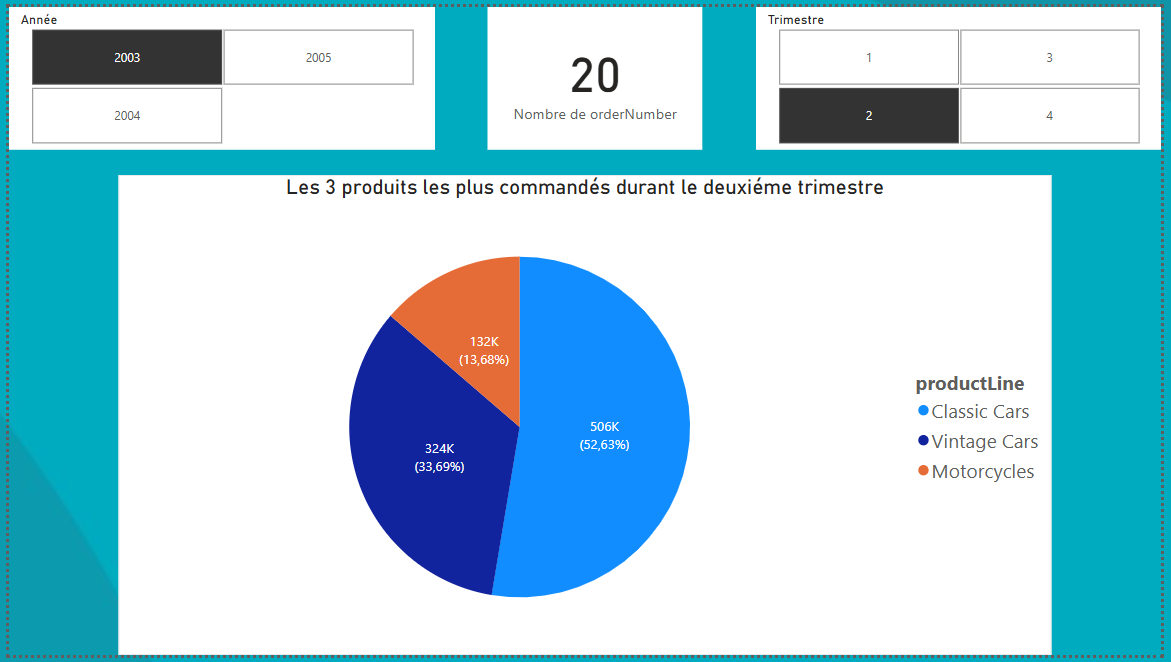

Layout of this report page (visuals, bound fields, positions):
{"tool":"powerbi","page":{"name":"QUESTION 3","canvas":[1280,720],"ordinal":3},"visuals":[{"type":"actionButton","box":[0,0,100,40],"z":0},{"type":"card","title":"Nombre de commande","fields":{"Values":["Count(datawarehouse fact_orderdetails.orderNumber)"]},"box":[545.3,0,243.8,109.4],"z":1000},{"type":"slicer","fields":{"Values":["datawarehouse fact_orderdetails.Année"]},"box":[0,0,443.8,109.4],"z":2000},{"type":"slicer","fields":{"Values":["datawarehouse fact_orderdetails.Trimestre"]},"box":[887.5,0,392.2,109.4],"z":3000},{"type":"pieChart","title":"Les 3 produits les plus commandés durant le deuxiéme trimestre ","fields":{"Category":["datawarehouse dim_products.productLine"],"Y":["Sum(datawarehouse fact_orderdetails.orderNumber)"]},"box":[221.9,204.7,821.9,515.6],"z":4000}]}

Visuals, with their boxes in screenshot pixels (x1, y1, x2, y2), scaled from the page's 1280x720 canvas onto the 1171x662 screenshot:
actionButton: crop(0, 0, 91, 37)
"Nombre de commande" card: crop(499, 0, 722, 101)
slicer - datawarehouse fact_orderdetails.Année: crop(0, 0, 406, 101)
slicer - datawarehouse fact_orderdetails.Trimestre: crop(812, 0, 1170, 101)
"Les 3 produits les plus commandés durant le deuxiéme trimestre " pieChart: crop(203, 188, 955, 661)
